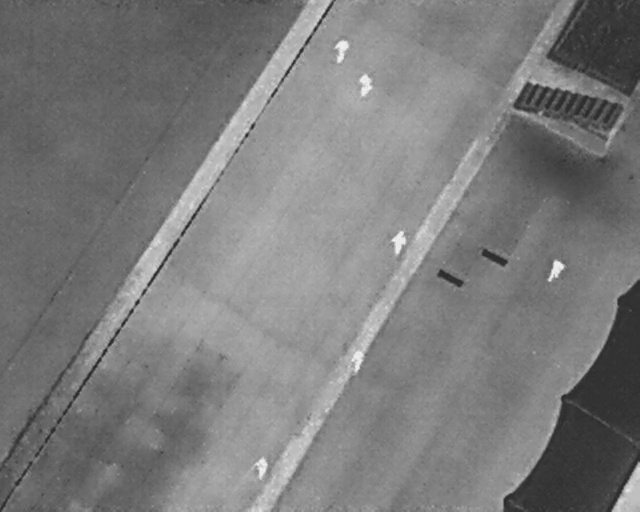Person: (543, 256, 567, 286), (388, 227, 410, 257), (331, 37, 351, 66), (253, 456, 269, 482), (359, 72, 373, 99), (351, 349, 365, 375)
